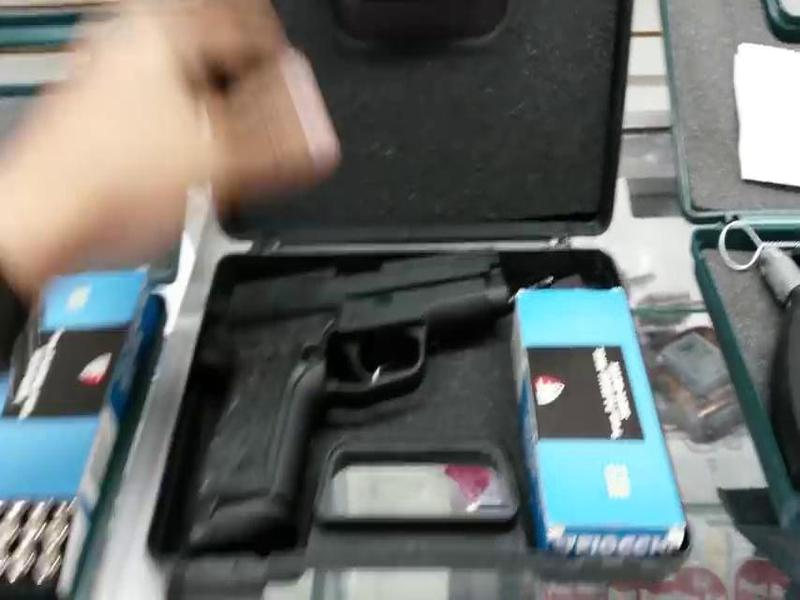Pistola: (151, 229, 533, 560)
